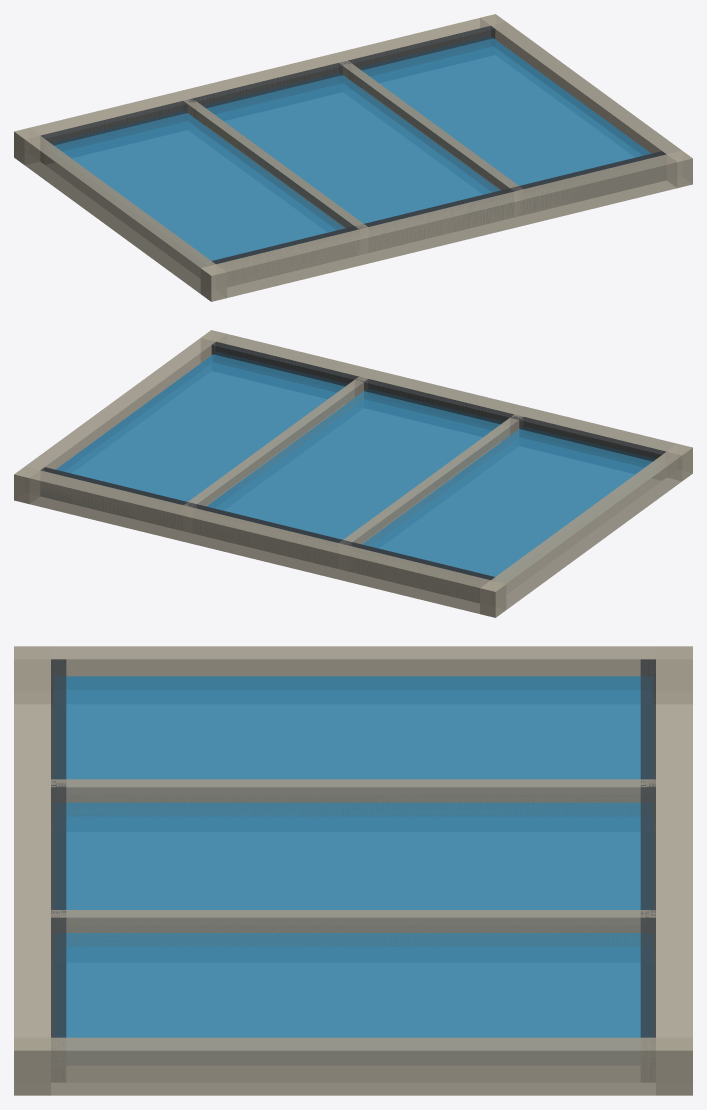
The model's file is panoramic_window.obj.
3 views of the same model, one above another, from view 1: azimuth 30°, elevation 25°; view 2: azimuth 150°, elevation 25°; view 3: azimuth 270°, elevation 25° (orthographic). The views are drawn at different scales.
Visible parts, largest first — view 1: panoramic_window; view 2: panoramic_window; view 3: panoramic_window.
Boxes of the visible parts, x1,y1,x2,y2 form: panoramic_window: (14, 14, 692, 301); panoramic_window: (14, 330, 692, 617); panoramic_window: (14, 646, 692, 1095).
Size of the model in its own units: 3.1 by 0.16 by 2.2.
